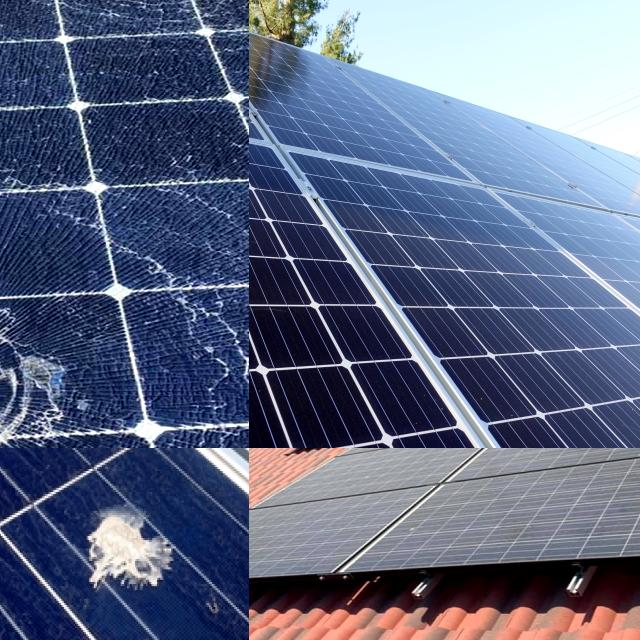bird: (72, 484, 178, 602)
crack: (274, 126, 640, 448), (249, 87, 526, 448), (326, 48, 638, 248), (249, 0, 502, 225)
hotspot: (0, 280, 163, 448), (73, 0, 219, 43)
